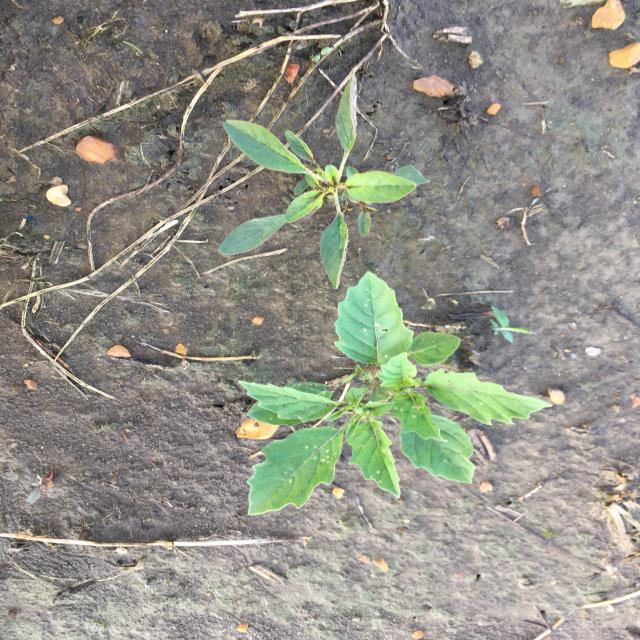CutleafGroundcherry: (235, 269, 557, 518)
Waterhemp: (215, 75, 435, 292)
